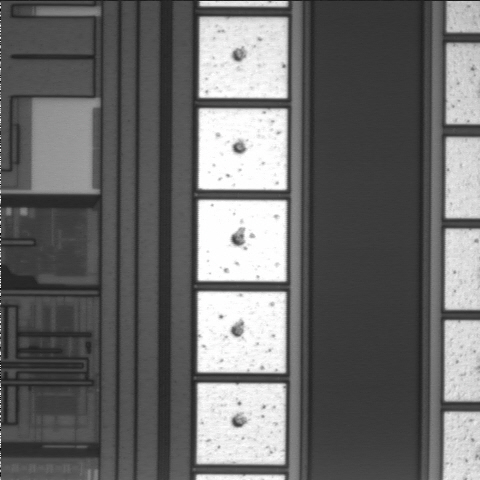pad: (198, 108, 287, 190), (198, 200, 287, 282), (197, 291, 286, 373), (197, 383, 286, 464), (199, 17, 287, 98)
